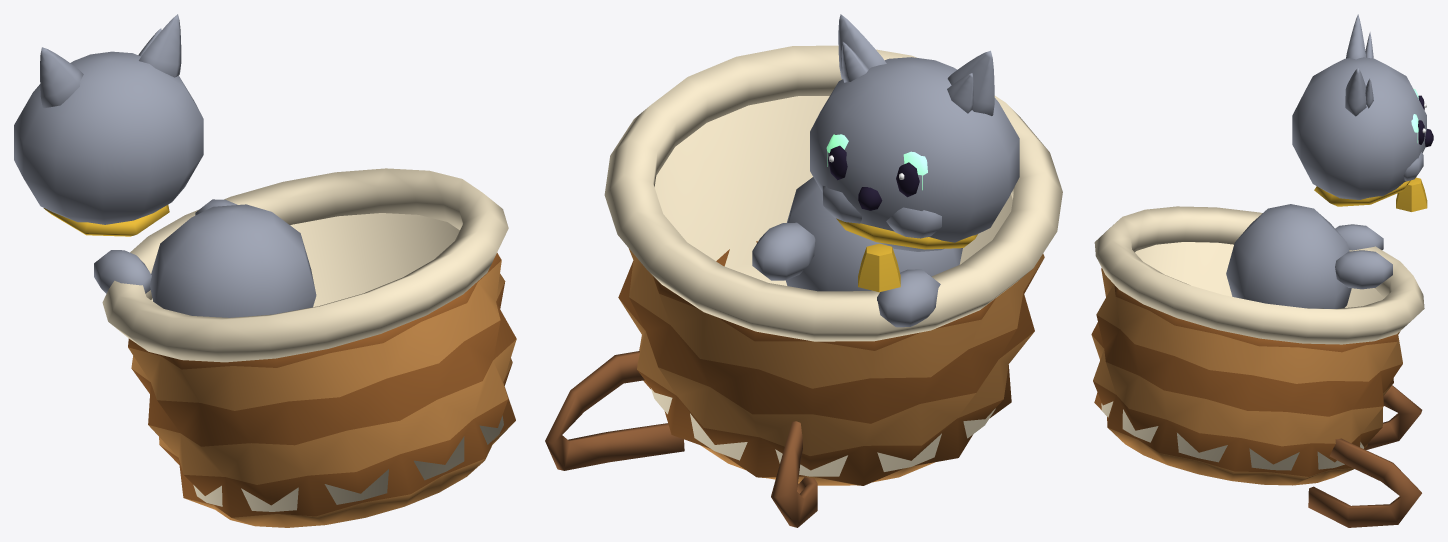
File: chaton_sac.fbx
3 views of the same model, side by side, from view 1: azimuth 30°, elevation 25°; view 2: azimuth 150°, elevation 25°; view 3: azimuth 270°, elevation 25° (orthographic). The views are drawn at different scales.
Visible parts, largest first — view 1: Panier, Anim_TeteChaton, Anim_Chaton; view 2: Panier, Anim_TeteChaton, Anim_Chaton, Anim_PatteChaton, Anim_YeuxChaton, Clochette; view 3: Panier, Anim_TeteChaton, Anim_Chaton, Anim_PatteChaton, Clochette.
Boxes of the visible parts, <box> form: Panier: <box>102,168,516,527</box>; Anim_TeteChaton: <box>14,14,203,236</box>; Anim_Chaton: <box>94,204,316,317</box>; Panier: <box>545,45,1062,527</box>; Anim_TeteChaton: <box>810,14,1019,251</box>; Anim_Chaton: <box>785,177,962,327</box>; Anim_PatteChaton: <box>752,222,815,280</box>; Anim_YeuxChaton: <box>826,134,927,197</box>; Clochette: <box>858,243,900,292</box>; Panier: <box>1091,206,1424,527</box>; Anim_TeteChaton: <box>1292,14,1433,206</box>; Anim_Chaton: <box>1226,204,1383,308</box>; Anim_PatteChaton: <box>1335,250,1392,289</box>; Clochette: <box>1396,177,1427,211</box>.
Bounding box in the file's own units: 1.38 × 1.53 × 1.27.
